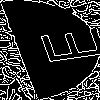E: (25, 25, 100, 67)
